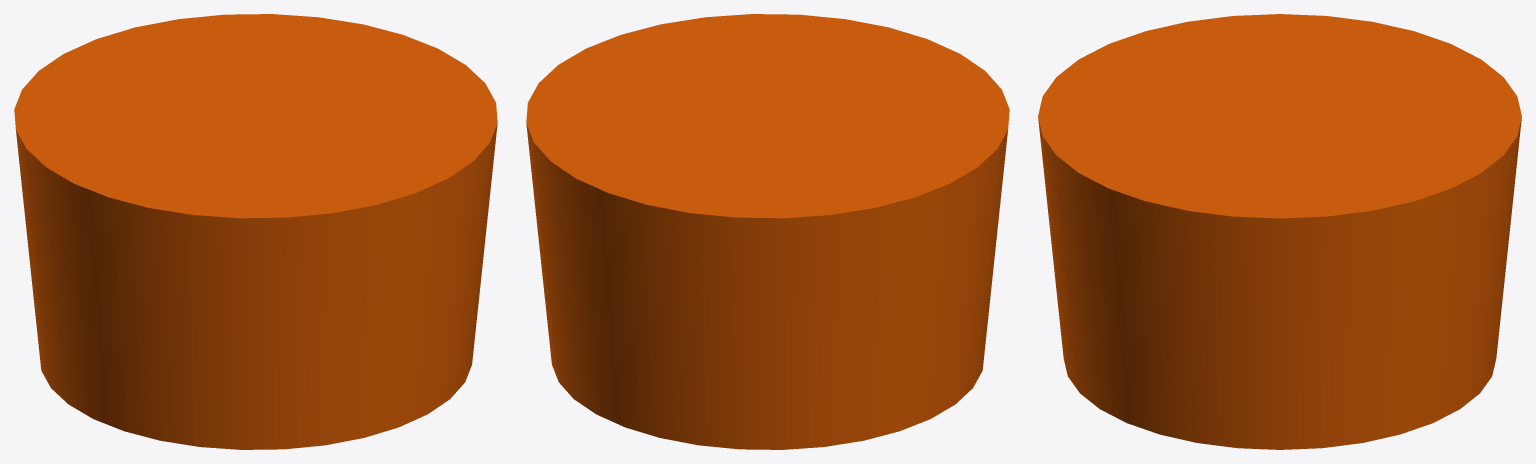
Rendered from Orange_02.FBX.
3 views of the same model, side by side, from view 1: azimuth 30°, elevation 25°; view 2: azimuth 150°, elevation 25°; view 3: azimuth 270°, elevation 25° (orthographic).
Parts seen in each view (by area): view 1: Cylinder072; view 2: Cylinder072; view 3: Cylinder072.
Part boxes in pixels (x1,y1,x2,y2): Cylinder072: (14, 14, 497, 449); Cylinder072: (526, 14, 1009, 449); Cylinder072: (1038, 14, 1521, 449).
Bounding box in the file's own units: 59.15 × 32.67 × 59.15.
